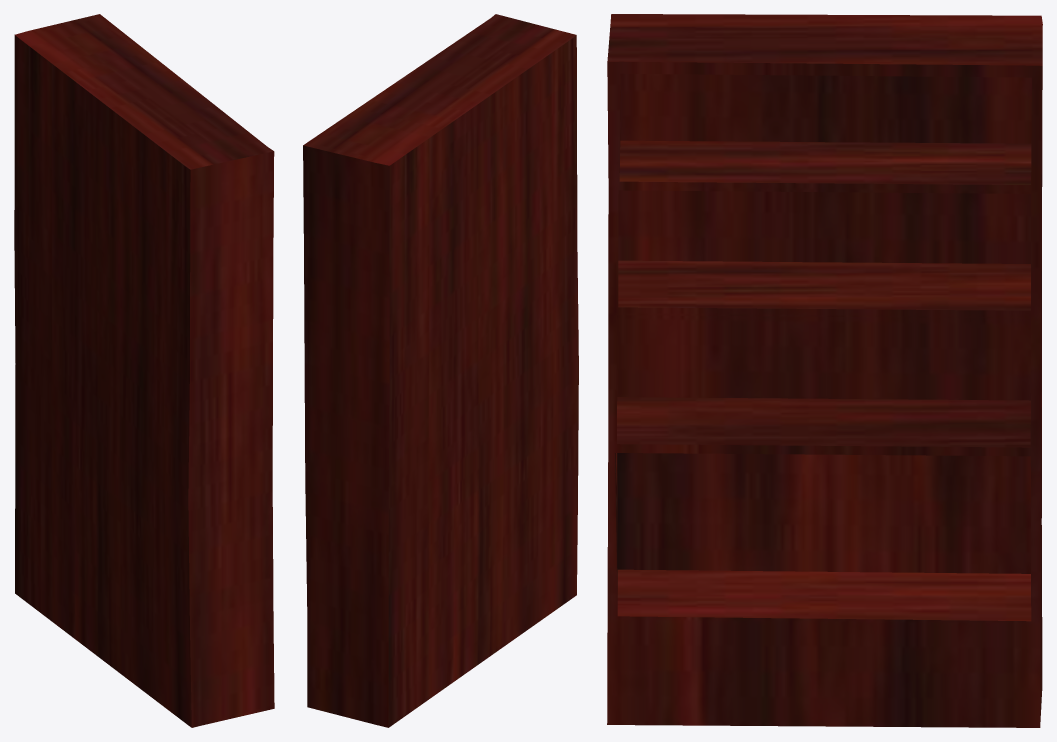
File: Obj_Bookcase.fbx
3 views of the same model, side by side, from view 1: azimuth 30°, elevation 25°; view 2: azimuth 150°, elevation 25°; view 3: azimuth 270°, elevation 25° (orthographic). The views are drawn at different scales.
Visible parts, largest first — view 1: polySurface19; view 2: polySurface19; view 3: polySurface19.
Boxes of the visible parts, box(x1,y1,x2,y2) form: polySurface19: box(14, 14, 274, 727); polySurface19: box(303, 14, 578, 727); polySurface19: box(607, 14, 1042, 727).
Bounding box in the file's own units: 2.64 × 15.16 × 9.01.
Materials: 1 (1 with a texture image).
